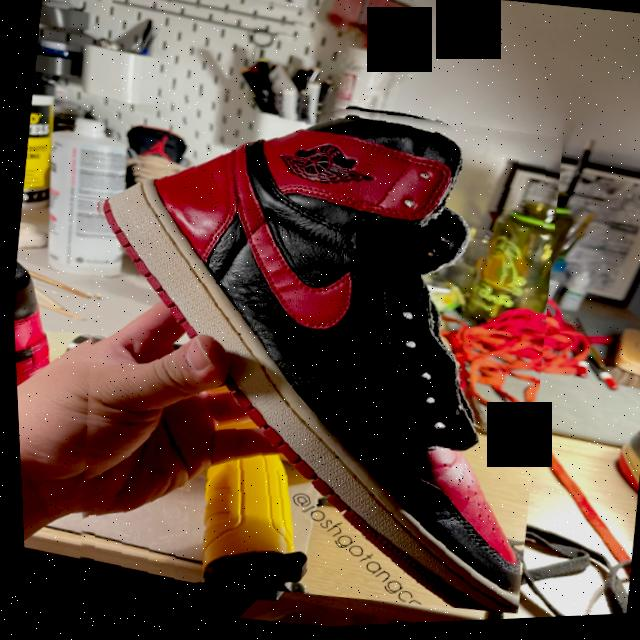shoe: (35, 62, 581, 634)
